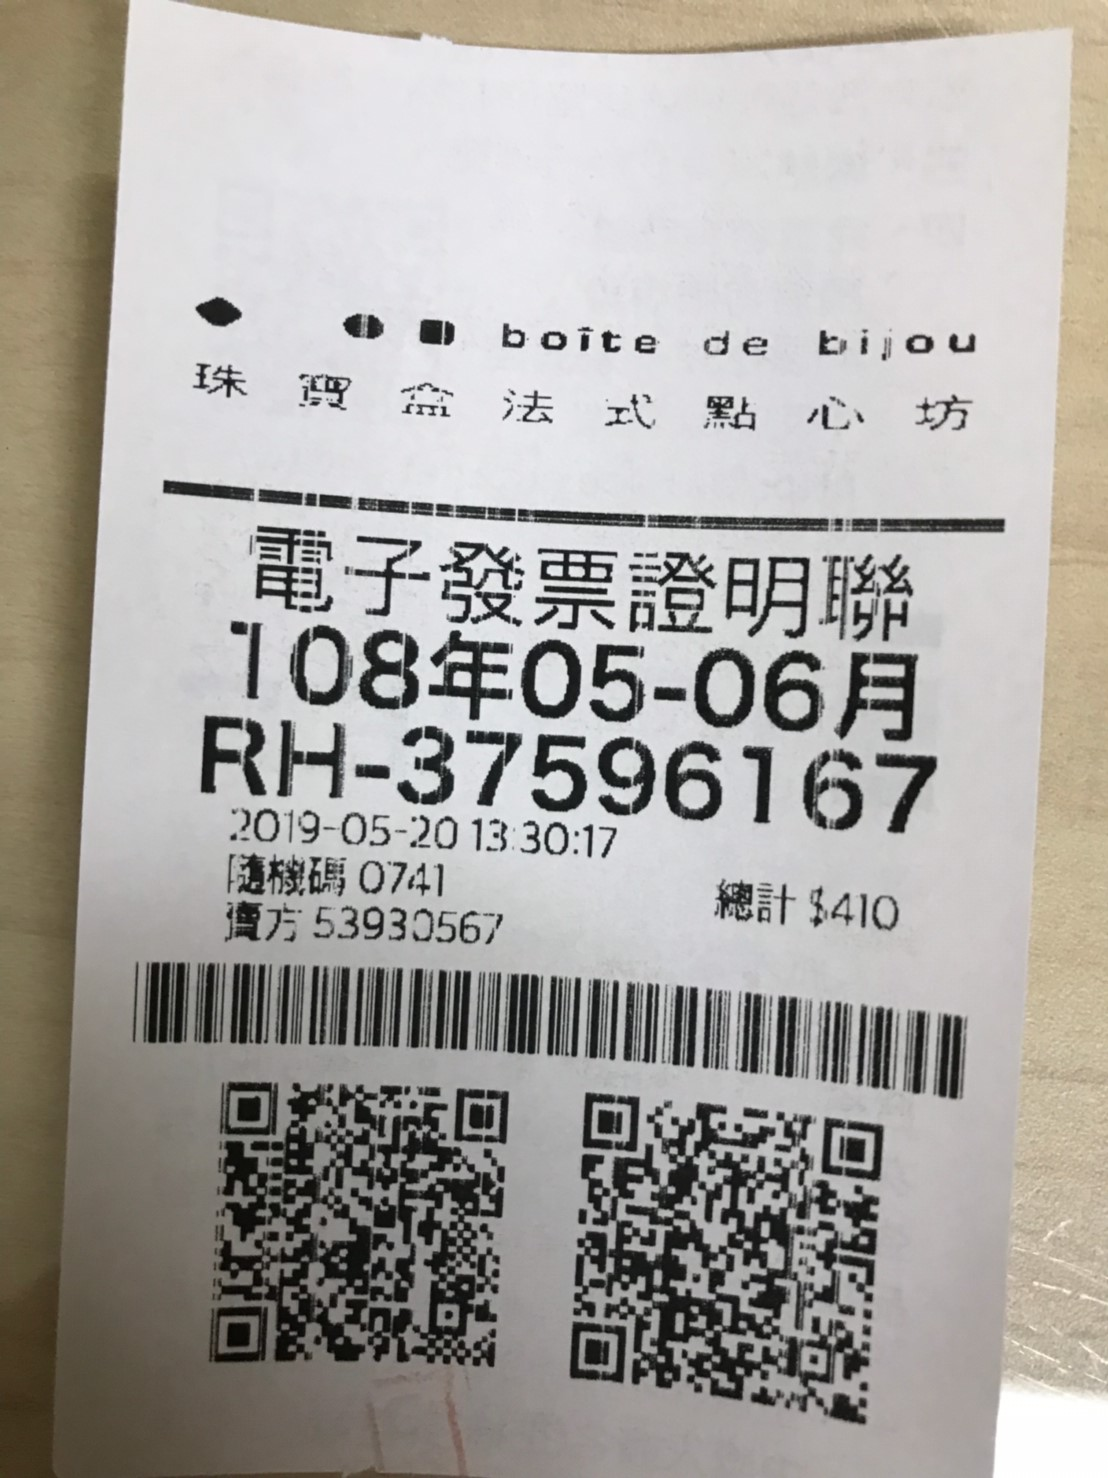Date_New: (223, 614, 923, 748)
Number_New: (393, 719, 940, 841)
